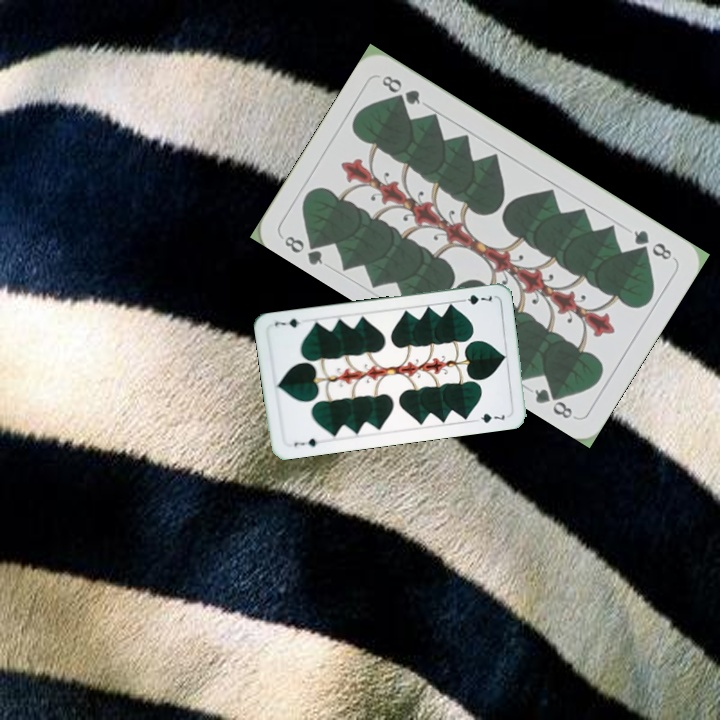G7: (455, 290, 495, 307), (290, 434, 320, 449)
G8: (280, 231, 327, 268), (629, 226, 675, 263)
